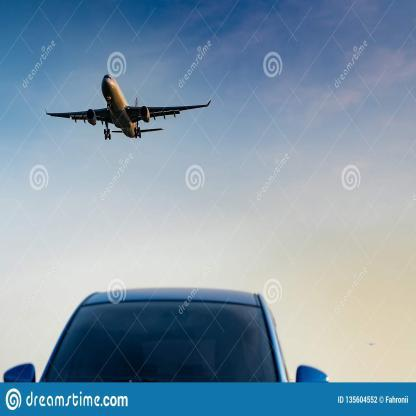CIV_Plane: (38, 70, 214, 145)
